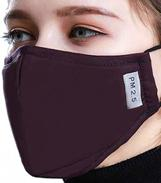with_mask: (1, 2, 161, 183)
